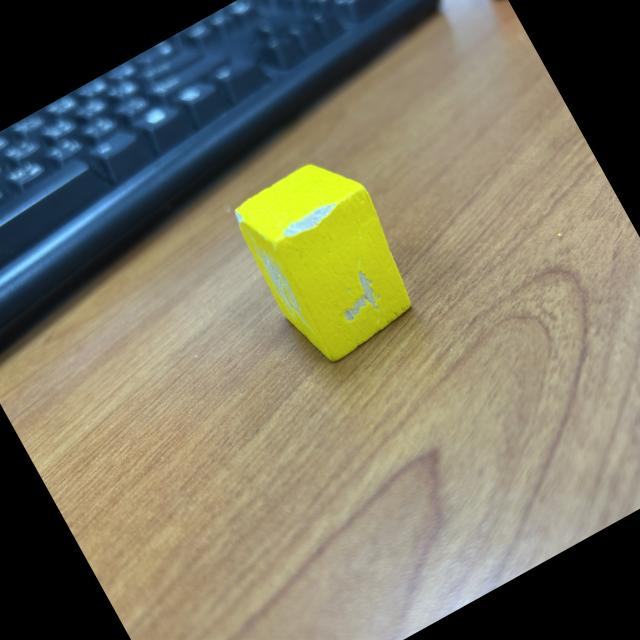broken: (224, 143, 434, 374)
